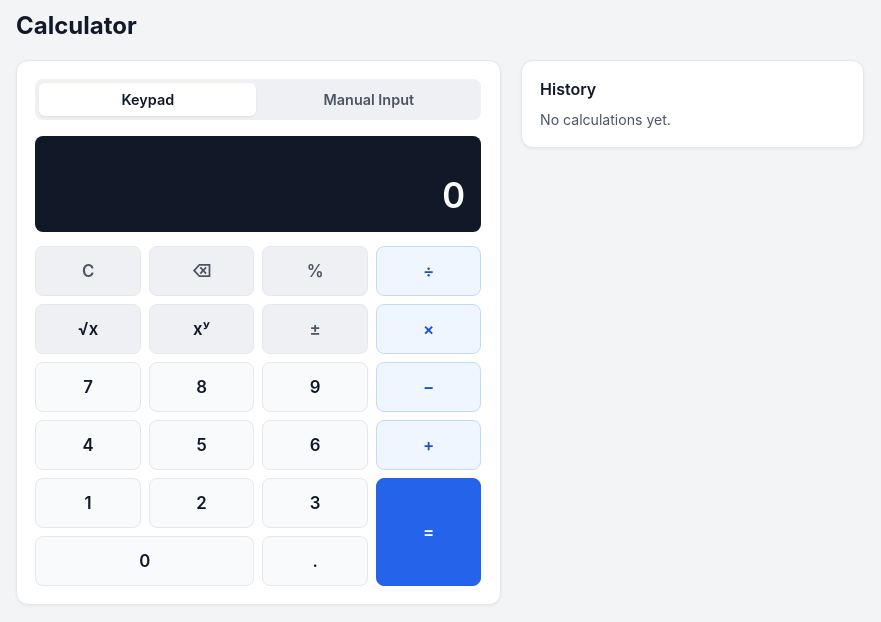
Test: App › performs square root and contextual percentage on the keypad
Click the button "9". click: (315, 387)
box: top-left (262, 362), bottom-right (368, 412)
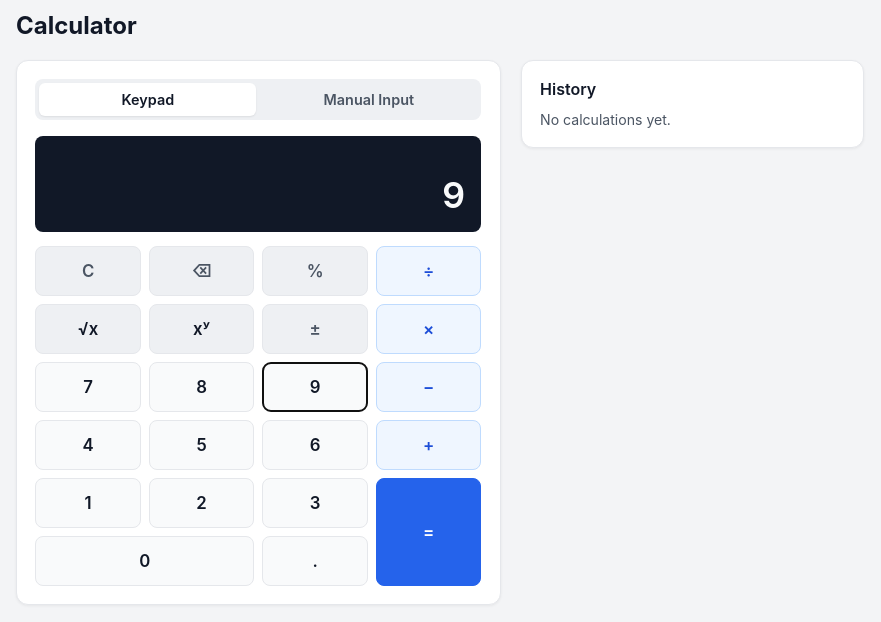
Click the button named "Square root". click: (88, 329)
box: top-left (35, 304), bottom-right (141, 354)
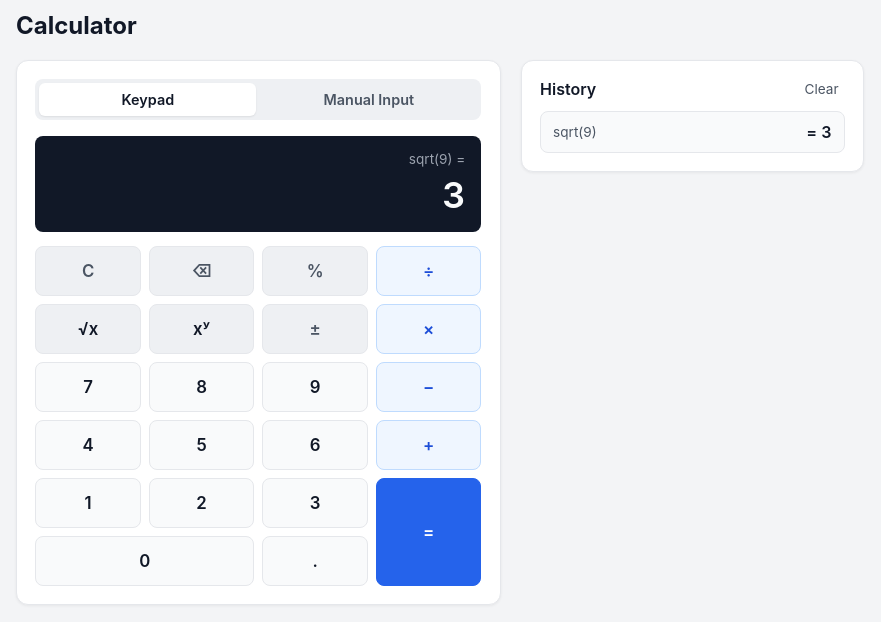
Expected: the text with test id "calculator-display" reads "3", top-left (442, 173), bottom-right (465, 217)
Click the button "C". click: (88, 271)
box: top-left (35, 246), bottom-right (141, 296)
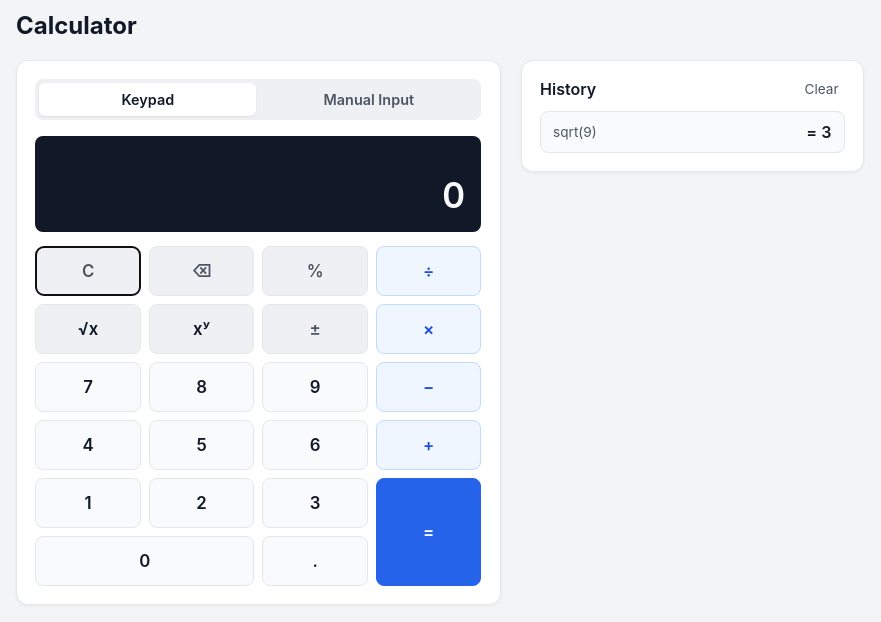
Click the button "5". click: (202, 445)
box: top-left (149, 420), bottom-right (254, 470)
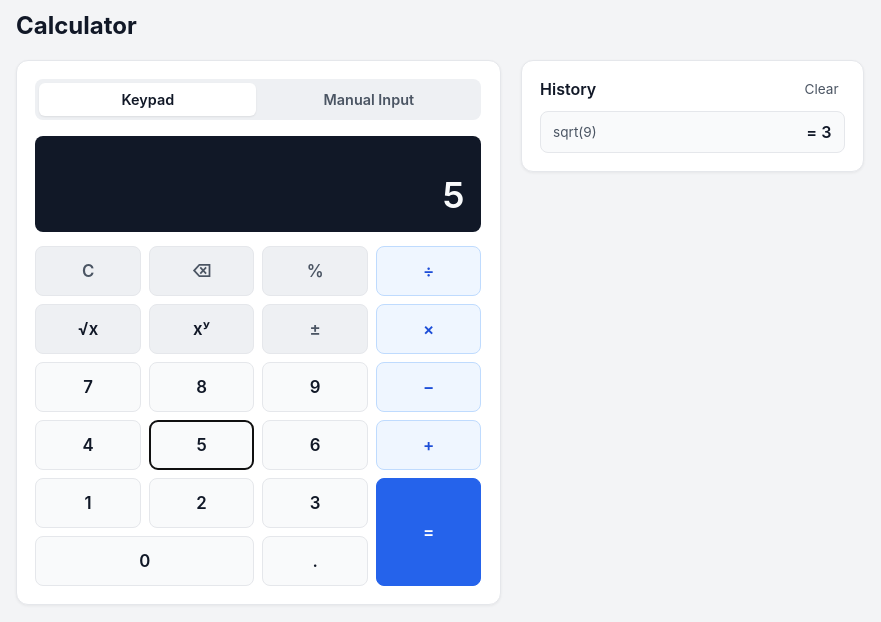
Click the button "0". click: (145, 561)
box: top-left (35, 536), bottom-right (254, 586)
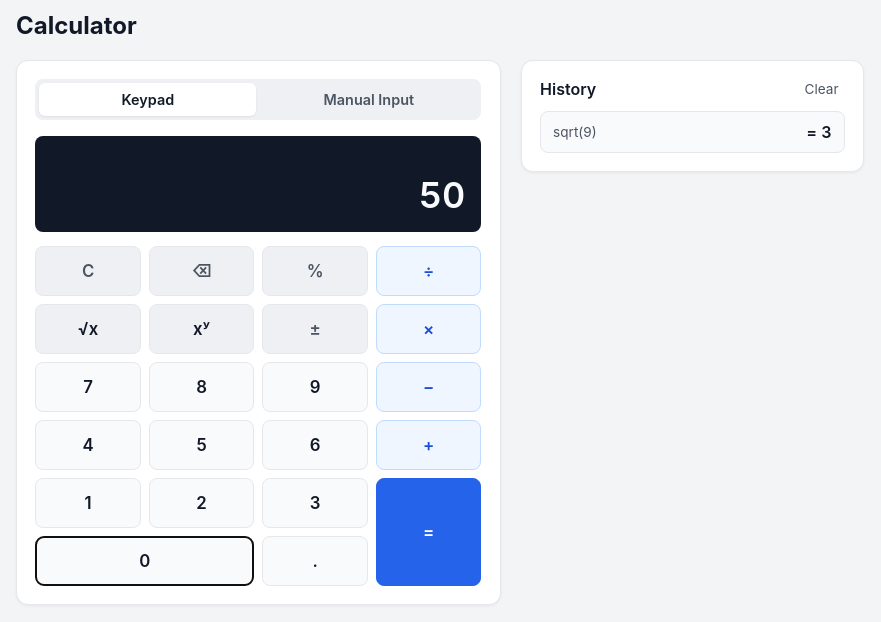
Click the button named "Percentage". click: (315, 271)
box: top-left (262, 246), bottom-right (368, 296)
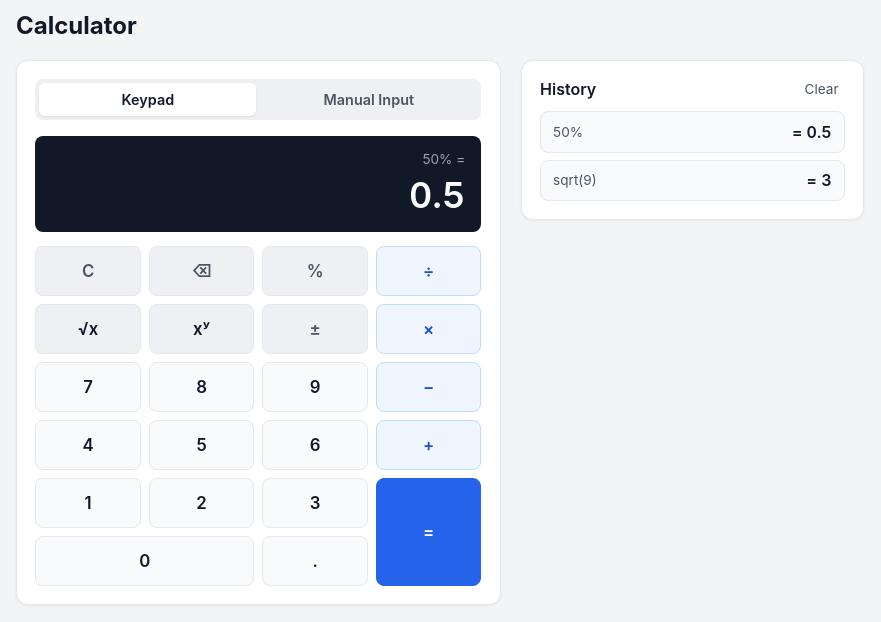
Expected: the text with test id "calculator-display" reads "0.5", top-left (409, 173), bottom-right (465, 217)
